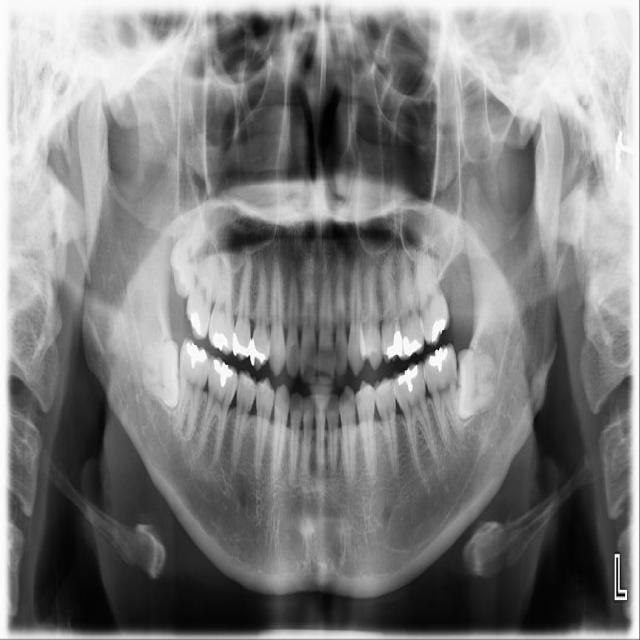Filling: (425, 346, 451, 374), (213, 360, 235, 392), (395, 364, 418, 393), (186, 342, 209, 369), (384, 328, 403, 358), (231, 333, 251, 360), (250, 339, 269, 367), (187, 309, 203, 336), (402, 337, 422, 358), (211, 330, 229, 352), (430, 318, 444, 346)
impacted tooth: (166, 207, 209, 296), (456, 350, 501, 416), (139, 340, 182, 404)
